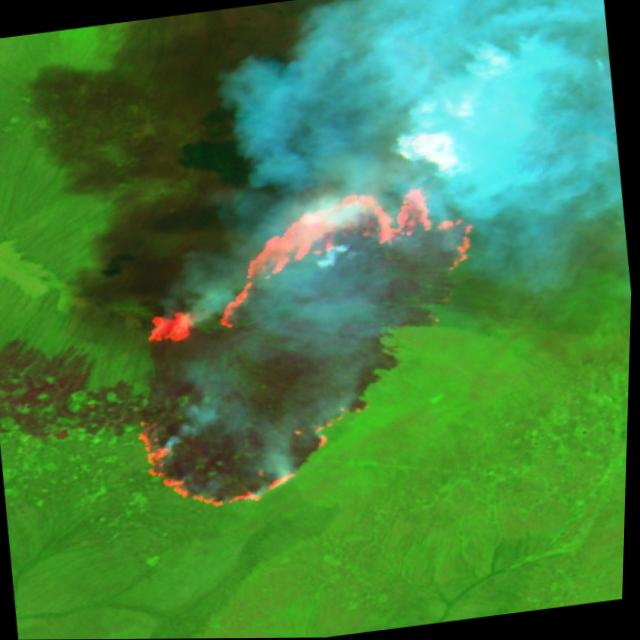fire: (109, 174, 521, 521)
